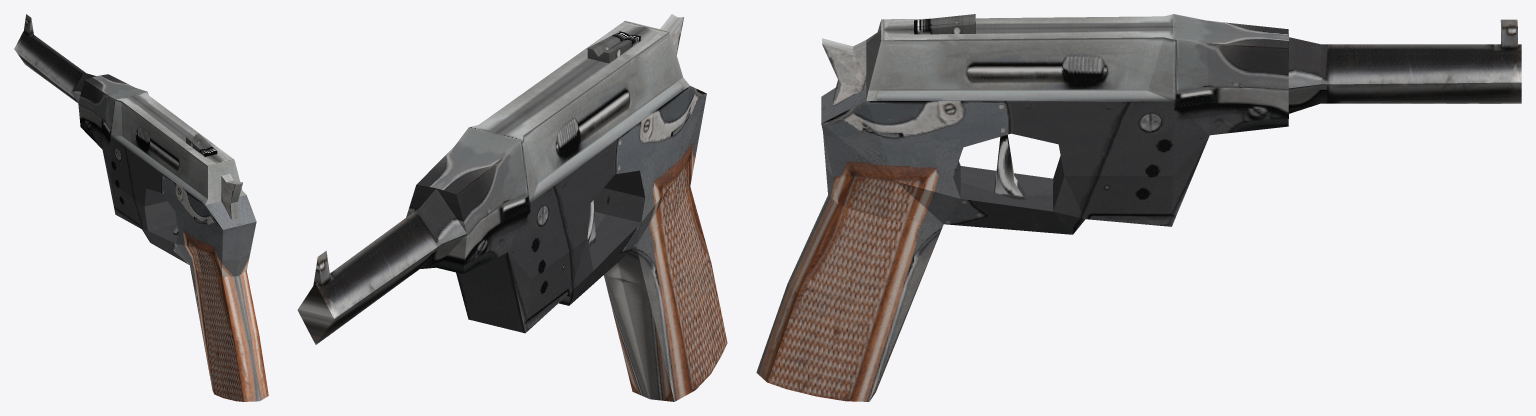
File: bergther N.glb
3 views of the same model, side by side, from view 1: azimuth 30°, elevation 25°; view 2: azimuth 150°, elevation 25°; view 3: azimuth 270°, elevation 25° (orthographic). The views are drawn at different scales.
Visible parts, largest first — view 1: Bergther GS5; view 2: Bergther GS5; view 3: Bergther GS5.
Boxes of the visible parts, left/top/right/bottom form: Bergther GS5: left=14, top=14, right=268, bottom=401; Bergther GS5: left=297, top=14, right=727, bottom=401; Bergther GS5: left=756, top=14, right=1521, bottom=401.
Bounding box in the file's own units: 0.0525 × 0.2771 × 0.5152.
Materials: 1 (1 with a texture image).
